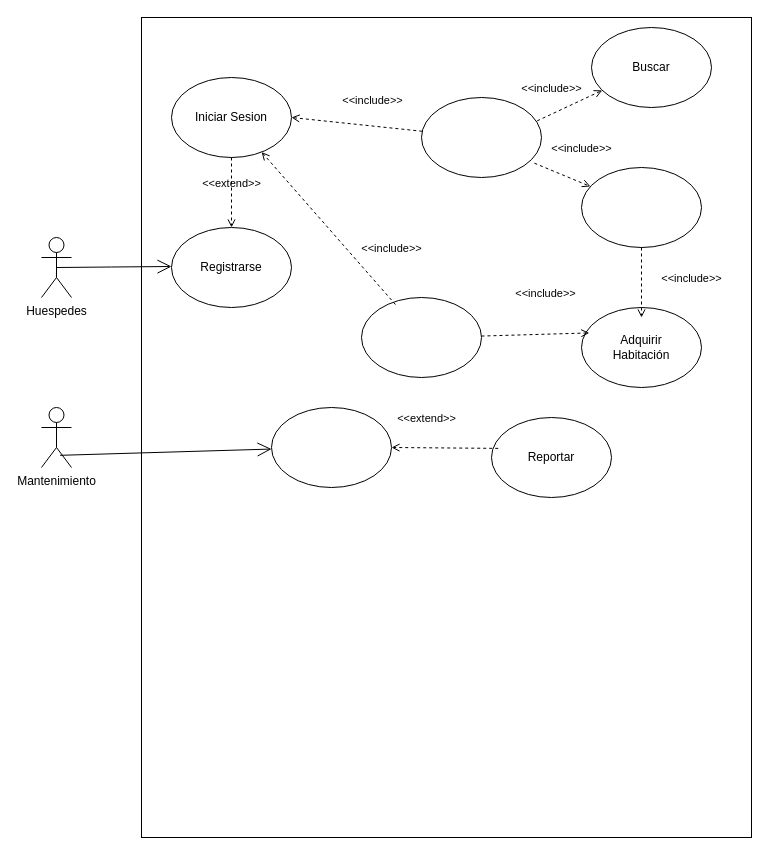
Image size: 769x855. Some labels were removed from this diagram. Each missing label, with the centre of its shape:
Pagar: (641,207)
Reservar: (481,137)
Revisar Habitación: (331,447)
Ver Reservas: (421,337)
